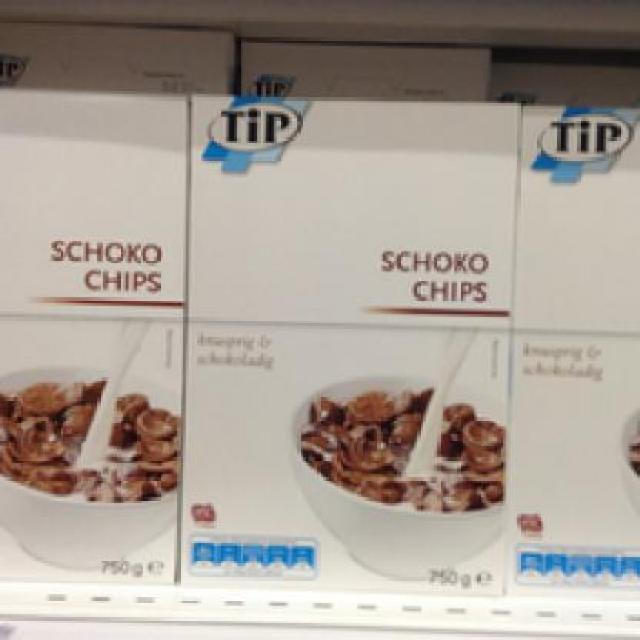Cereal: (177, 88, 523, 594), (0, 89, 183, 580), (512, 100, 634, 597)
